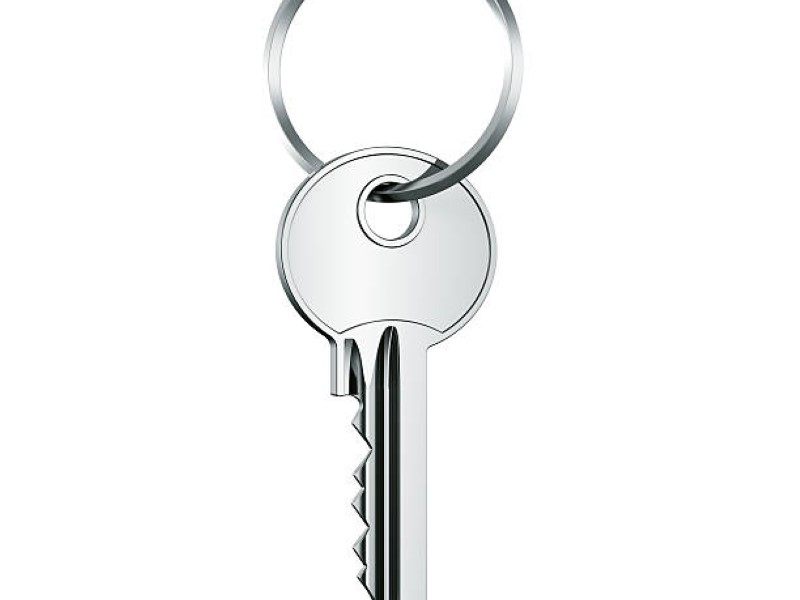key: (270, 142, 501, 598)
